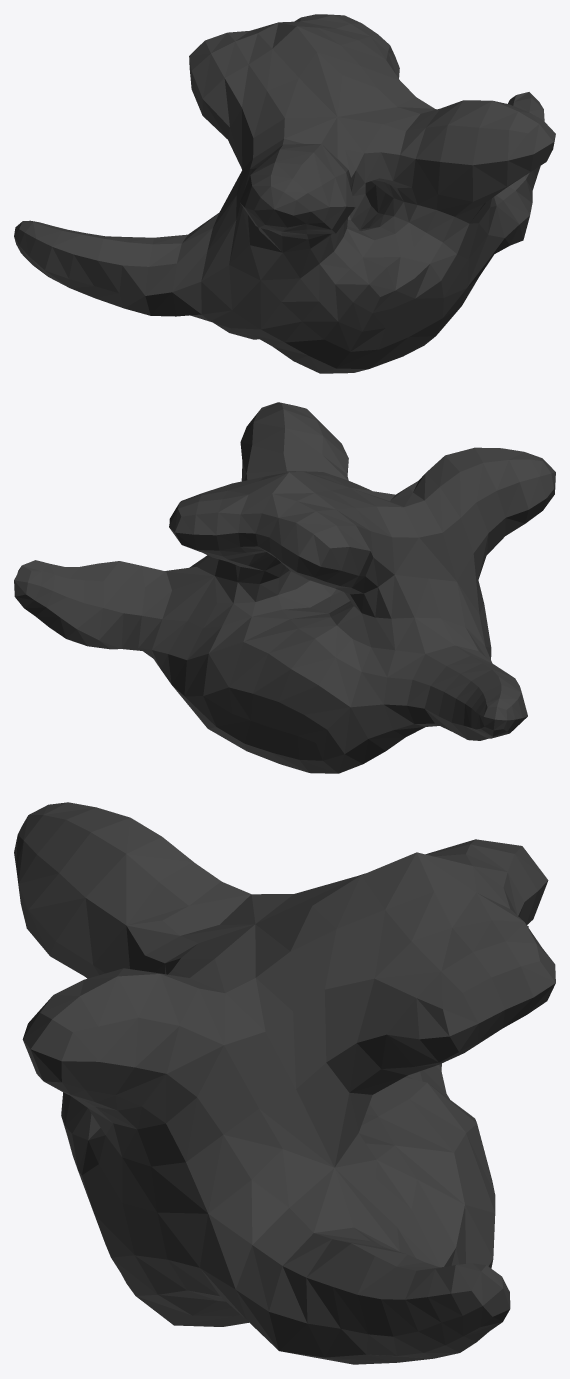
3 renders of one model, top to bottom at view 1: azimuth 30°, elevation 25°; view 2: azimuth 150°, elevation 25°; view 3: azimuth 270°, elevation 25°, orthographic. The views are drawn at different scales.
Parts seen in each view (by area): view 1: Co3; view 2: Co3; view 3: Co3.
Part boxes in pixels (left/top/right/bottom): Co3: left=14, top=14, right=555, bottom=373; Co3: left=14, top=402, right=555, bottom=773; Co3: left=14, top=802, right=555, bottom=1364.
Size of the model in its own units: 1.83 by 1.01 by 1.06.
1 material, 1 textured.
